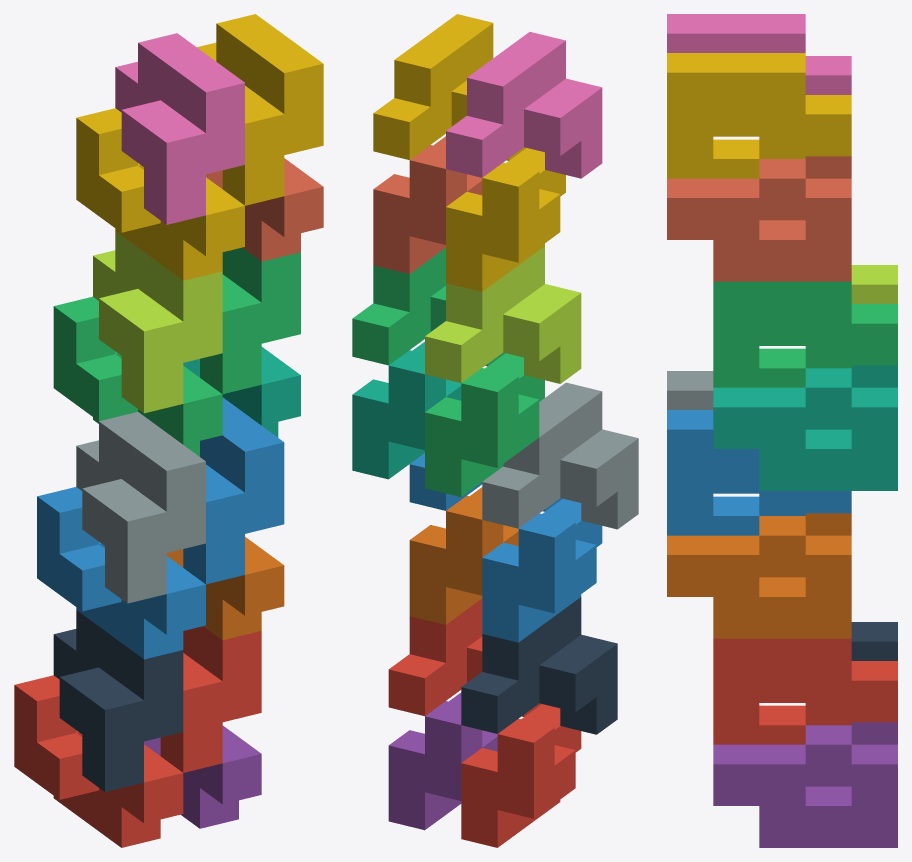
File: tiling.obj
3 views of the same model, side by side, from view 1: azimuth 30°, elevation 25°; view 2: azimuth 150°, elevation 25°; view 3: azimuth 270°, elevation 25° (orthographic). The views are drawn at different scales.
Parts seen in each view (by area): view 1: copy_2_domain_4, copy_2_domain_2, copy_2_domain_1, copy_2_domain_3, copy_2_domain_8, copy_1_domain_1, copy_1_domain_2, copy_1_domain_4, copy_2_domain_6, copy_1_domain_3, copy_2_domain_5, copy_2_domain_7 (+4 smaller); view 2: copy_2_domain_4, copy_2_domain_2, copy_2_domain_1, copy_2_domain_3, copy_1_domain_1, copy_1_domain_2, copy_1_domain_4, copy_1_domain_3, copy_2_domain_8, copy_1_domain_5, copy_1_domain_6, copy_1_domain_7 (+4 smaller); view 3: copy_1_domain_5, copy_1_domain_6, copy_1_domain_7, copy_1_domain_8, copy_2_domain_8, copy_2_domain_5, copy_2_domain_7, copy_2_domain_6, copy_2_domain_4, copy_1_domain_1, copy_1_domain_3, copy_1_domain_2 (+4 smaller).
Boxes of the visible parts, x1,y1,x2,y2 form: copy_2_domain_4: [115, 33, 244, 224]; copy_2_domain_2: [76, 412, 205, 603]; copy_2_domain_1: [53, 610, 183, 791]; copy_2_domain_3: [93, 231, 222, 413]; copy_2_domain_8: [197, 14, 323, 205]; copy_1_domain_1: [14, 675, 183, 847]; copy_1_domain_2: [37, 487, 205, 659]; copy_1_domain_4: [76, 108, 244, 280]; copy_2_domain_6: [183, 397, 284, 584]; copy_1_domain_3: [53, 296, 222, 456]; copy_2_domain_5: [160, 626, 261, 772]; copy_2_domain_7: [200, 247, 300, 394]; copy_2_domain_4: [446, 32, 602, 178]; copy_2_domain_2: [482, 382, 638, 529]; copy_2_domain_1: [461, 597, 617, 734]; copy_2_domain_3: [425, 246, 581, 383]; copy_1_domain_1: [461, 704, 581, 847]; copy_1_domain_2: [482, 498, 602, 642]; copy_1_domain_4: [446, 148, 565, 291]; copy_1_domain_3: [425, 353, 544, 496]; copy_2_domain_8: [373, 14, 526, 160]; copy_1_domain_5: [388, 692, 497, 830]; copy_1_domain_6: [409, 487, 518, 624]; copy_1_domain_7: [352, 341, 461, 479]; copy_1_domain_5: [713, 722, 897, 847]; copy_1_domain_6: [667, 513, 851, 638]; copy_1_domain_7: [713, 365, 897, 490]; copy_1_domain_8: [667, 156, 851, 281]; copy_2_domain_8: [667, 53, 851, 178]; copy_2_domain_5: [713, 638, 897, 744]; copy_2_domain_7: [713, 281, 897, 387]; copy_2_domain_6: [667, 410, 851, 535]; copy_2_domain_4: [667, 14, 851, 94]; copy_1_domain_1: [759, 705, 851, 744]; copy_1_domain_3: [759, 348, 851, 387]; copy_1_domain_2: [713, 496, 805, 535].
Bounding box in the file's own units: 5 × 19 × 5.
